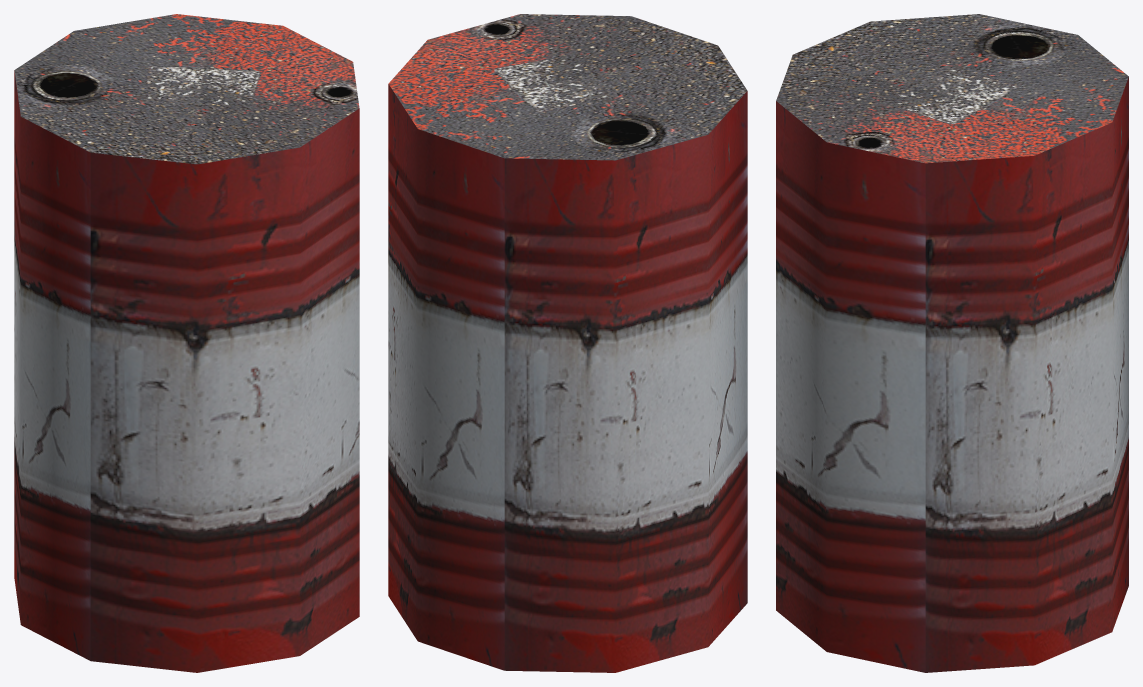
File: barrel.fbx
3 views of the same model, side by side, from view 1: azimuth 30°, elevation 25°; view 2: azimuth 150°, elevation 25°; view 3: azimuth 270°, elevation 25° (orthographic).
Parts seen in each view (by area): view 1: barrel; view 2: barrel; view 3: barrel.
Boxes of the visible parts, x1,y1,x2,y2 form: barrel: (14,14,359,672); barrel: (388,14,747,672); barrel: (776,14,1128,672).
Bounding box in the file's own units: 3.06 × 4.88 × 3.06.
